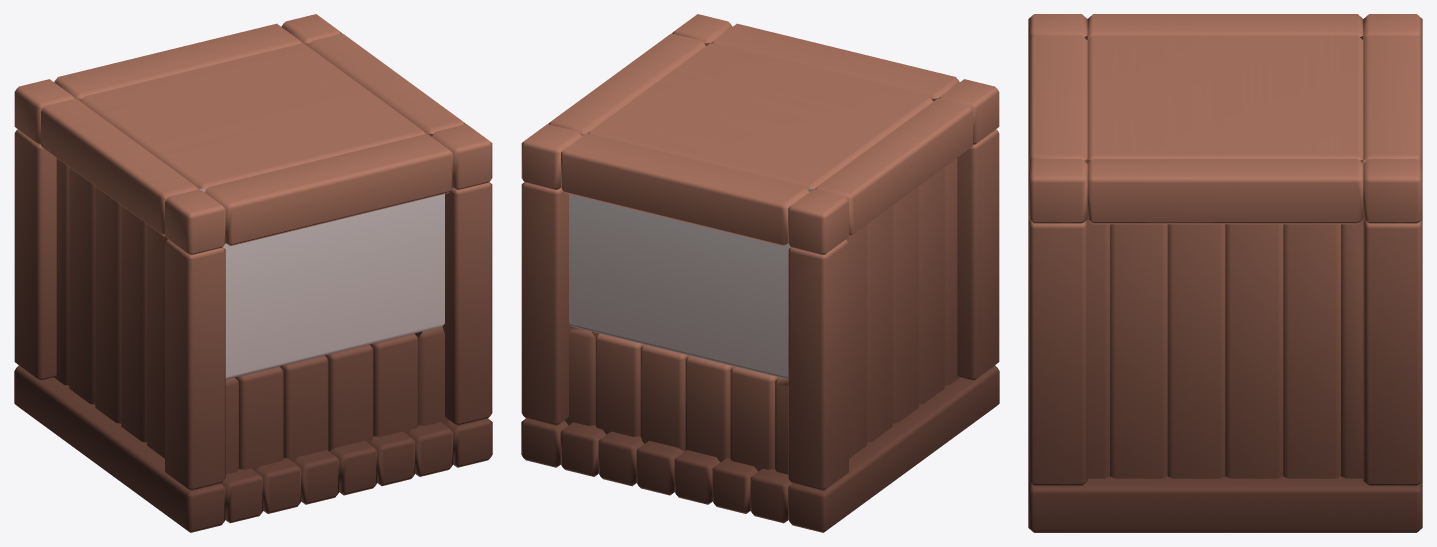
The model's file is SM_Wood_Body_01.fbx.
3 views of the same model, side by side, from view 1: azimuth 30°, elevation 25°; view 2: azimuth 150°, elevation 25°; view 3: azimuth 270°, elevation 25° (orthographic). The views are drawn at different scales.
Visible parts, largest first — view 1: SM_Wood_Body_01; view 2: SM_Wood_Body_01; view 3: SM_Wood_Body_01.
Boxes of the visible parts, x1,y1,x2,y2 form: SM_Wood_Body_01: (14, 14, 492, 532); SM_Wood_Body_01: (521, 14, 999, 532); SM_Wood_Body_01: (1028, 14, 1422, 532).
Size of the model in its own units: 0.9999 by 0.9999 by 0.9999.
